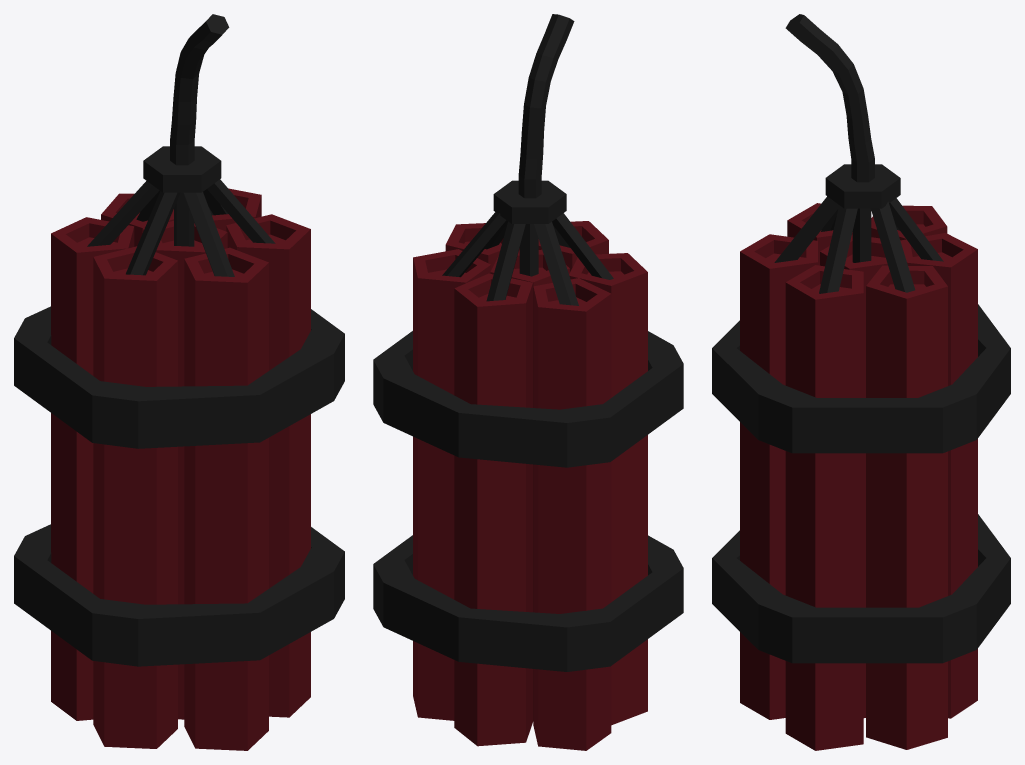
Rendered from ww_dynamite_b.glb.
3 views of the same model, side by side, from view 1: azimuth 30°, elevation 25°; view 2: azimuth 150°, elevation 25°; view 3: azimuth 270°, elevation 25° (orthographic). The views are drawn at different scales.
Visible parts, largest first — view 1: Dynamite_B; view 2: Dynamite_B; view 3: Dynamite_B.
Boxes of the visible parts, left/top/right/bottom form: Dynamite_B: left=14, top=14, right=344, bottom=750; Dynamite_B: left=373, top=14, right=683, bottom=750; Dynamite_B: left=712, top=14, right=1010, bottom=750.
Bounding box in the file's own units: 0.1876 × 0.5055 × 0.1993.
